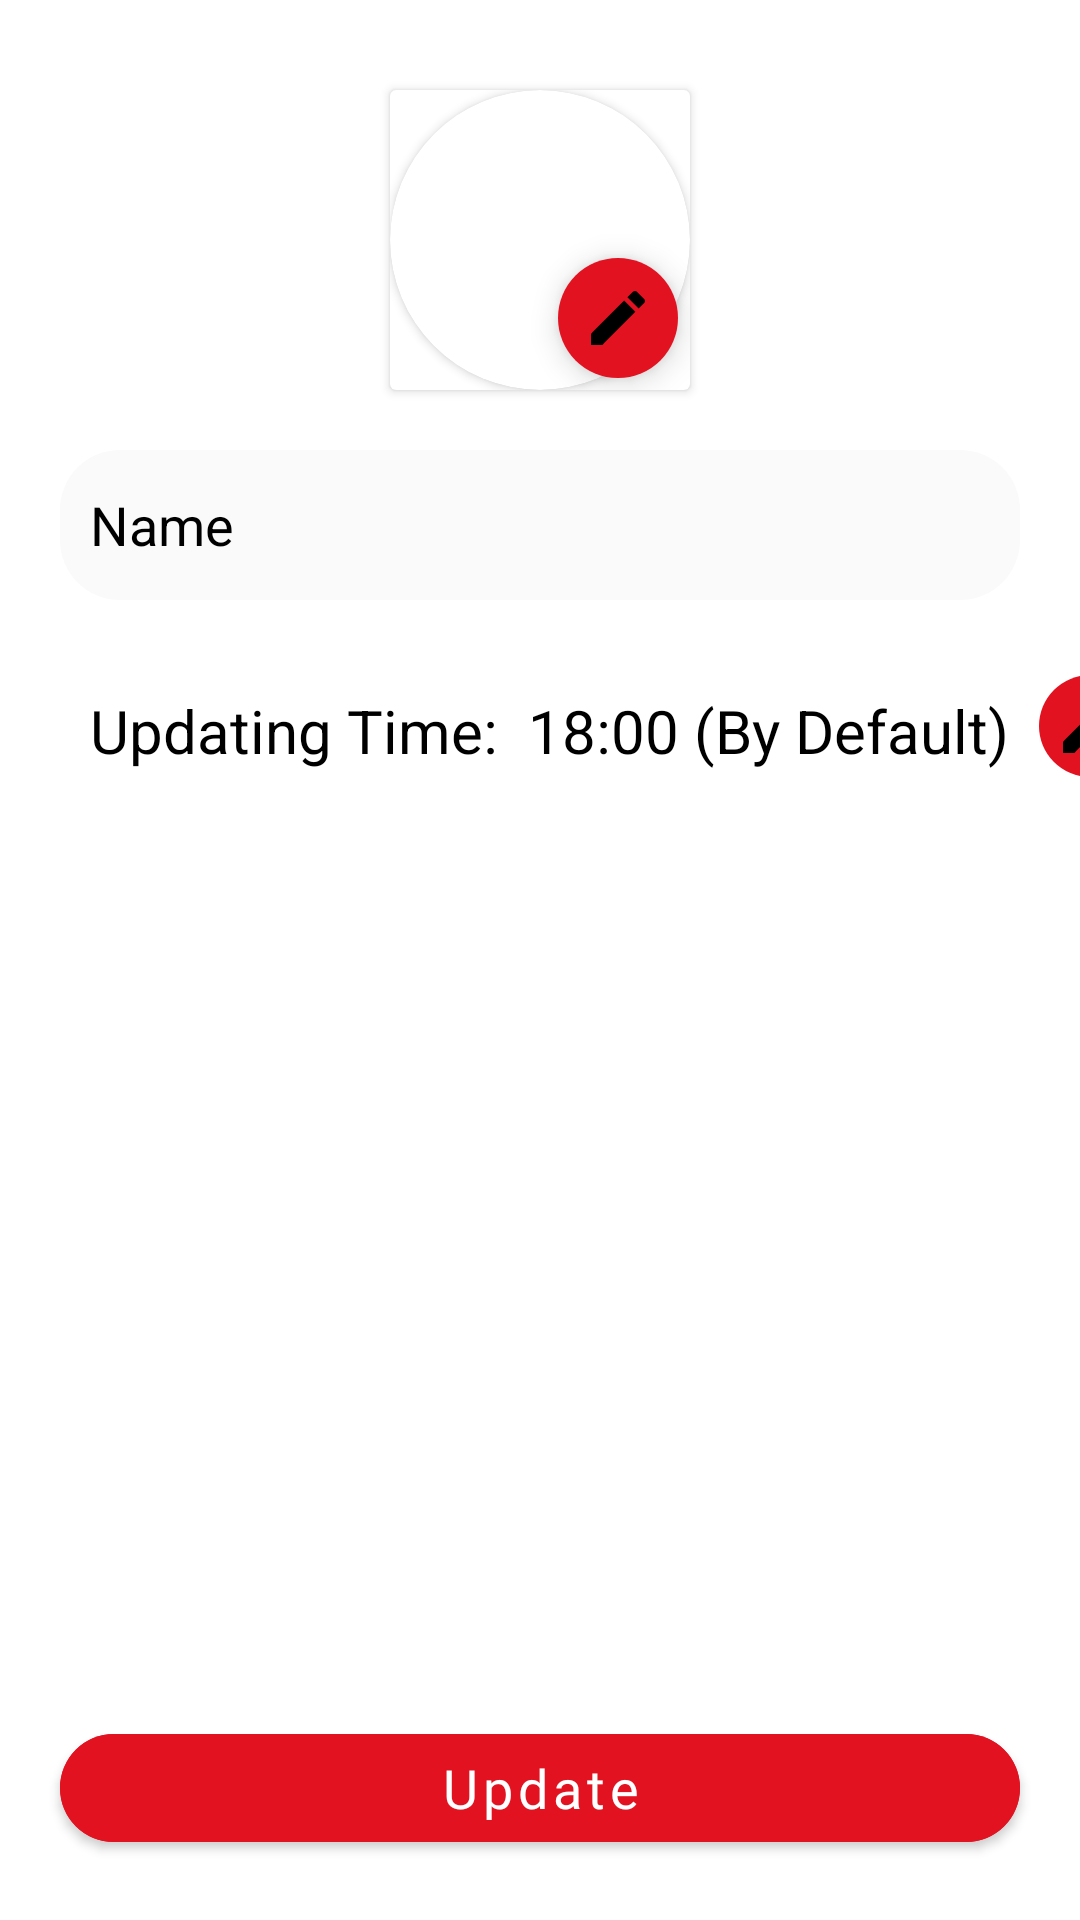

Named icons in this screenshot (1080 x 1920) and their centers, (x=x, y=y):
Change Profile Picture: (x=621, y=323)
